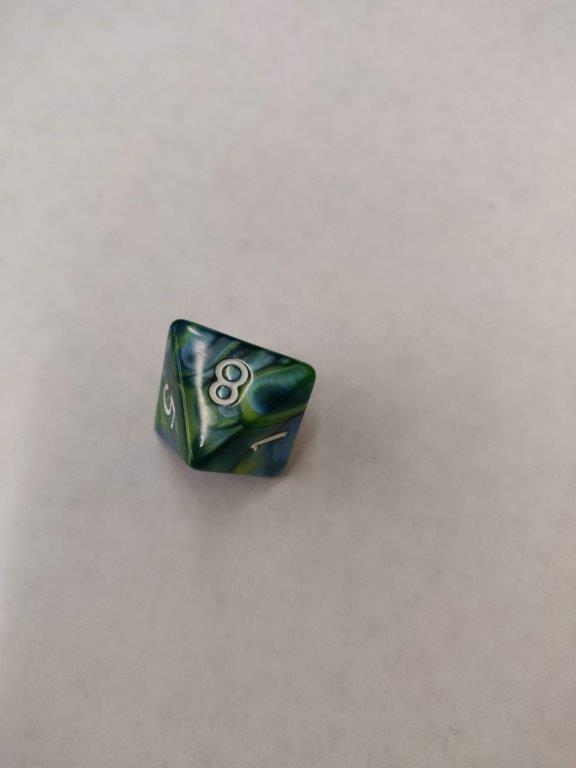d8-8: (147, 315, 319, 483)
